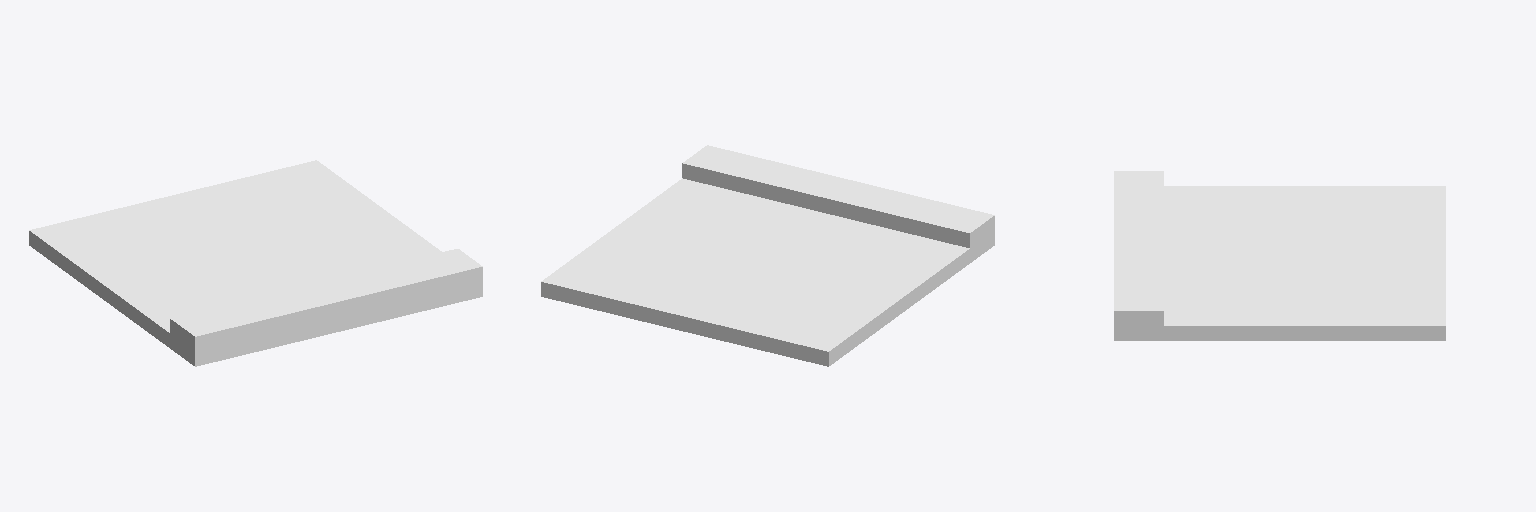
File: house-6-roof_flat_edge.obj
The picture shows the model from 3 angles: view 1: azimuth 30°, elevation 25°; view 2: azimuth 150°, elevation 25°; view 3: azimuth 270°, elevation 25°; orthographic projection.
Visible parts, largest first — view 1: roof_flat_edge; view 2: roof_flat_edge; view 3: roof_flat_edge.
Boxes of the visible parts, x1,y1,x2,y2 form: roof_flat_edge: [29, 160, 482, 366]; roof_flat_edge: [541, 145, 994, 366]; roof_flat_edge: [1114, 171, 1445, 340].
Bounding box in the file's own units: 2 × 0.2 × 2.